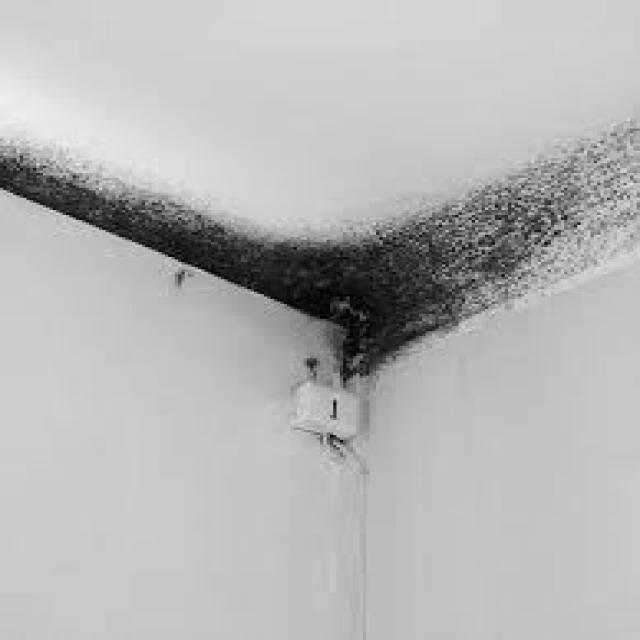stain marks: (0, 122, 640, 397)
